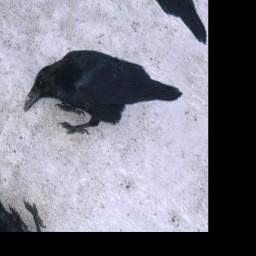Crow: (22, 8, 185, 194)
